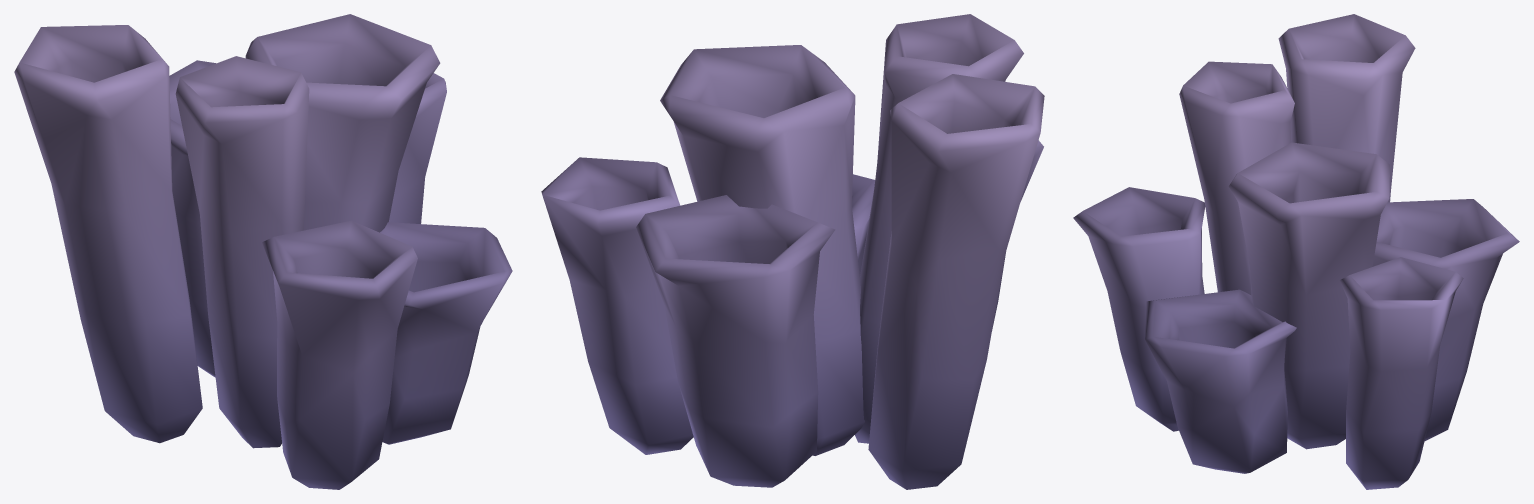
The model's file is tube_sponge_low.glb.
3 renders of one model, left to right at view 1: azimuth 30°, elevation 25°; view 2: azimuth 150°, elevation 25°; view 3: azimuth 270°, elevation 25°, orthographic. The views are drawn at different scales.
Parts seen in each view (by area): view 1: world; view 2: world; view 3: world.
Part boxes in pixels (x1,y1,x2,y2): world: (14, 14, 512, 489); world: (541, 14, 1044, 489); world: (1073, 14, 1519, 489).
Size of the model in its own units: 0.747 by 0.6385 by 0.781.
